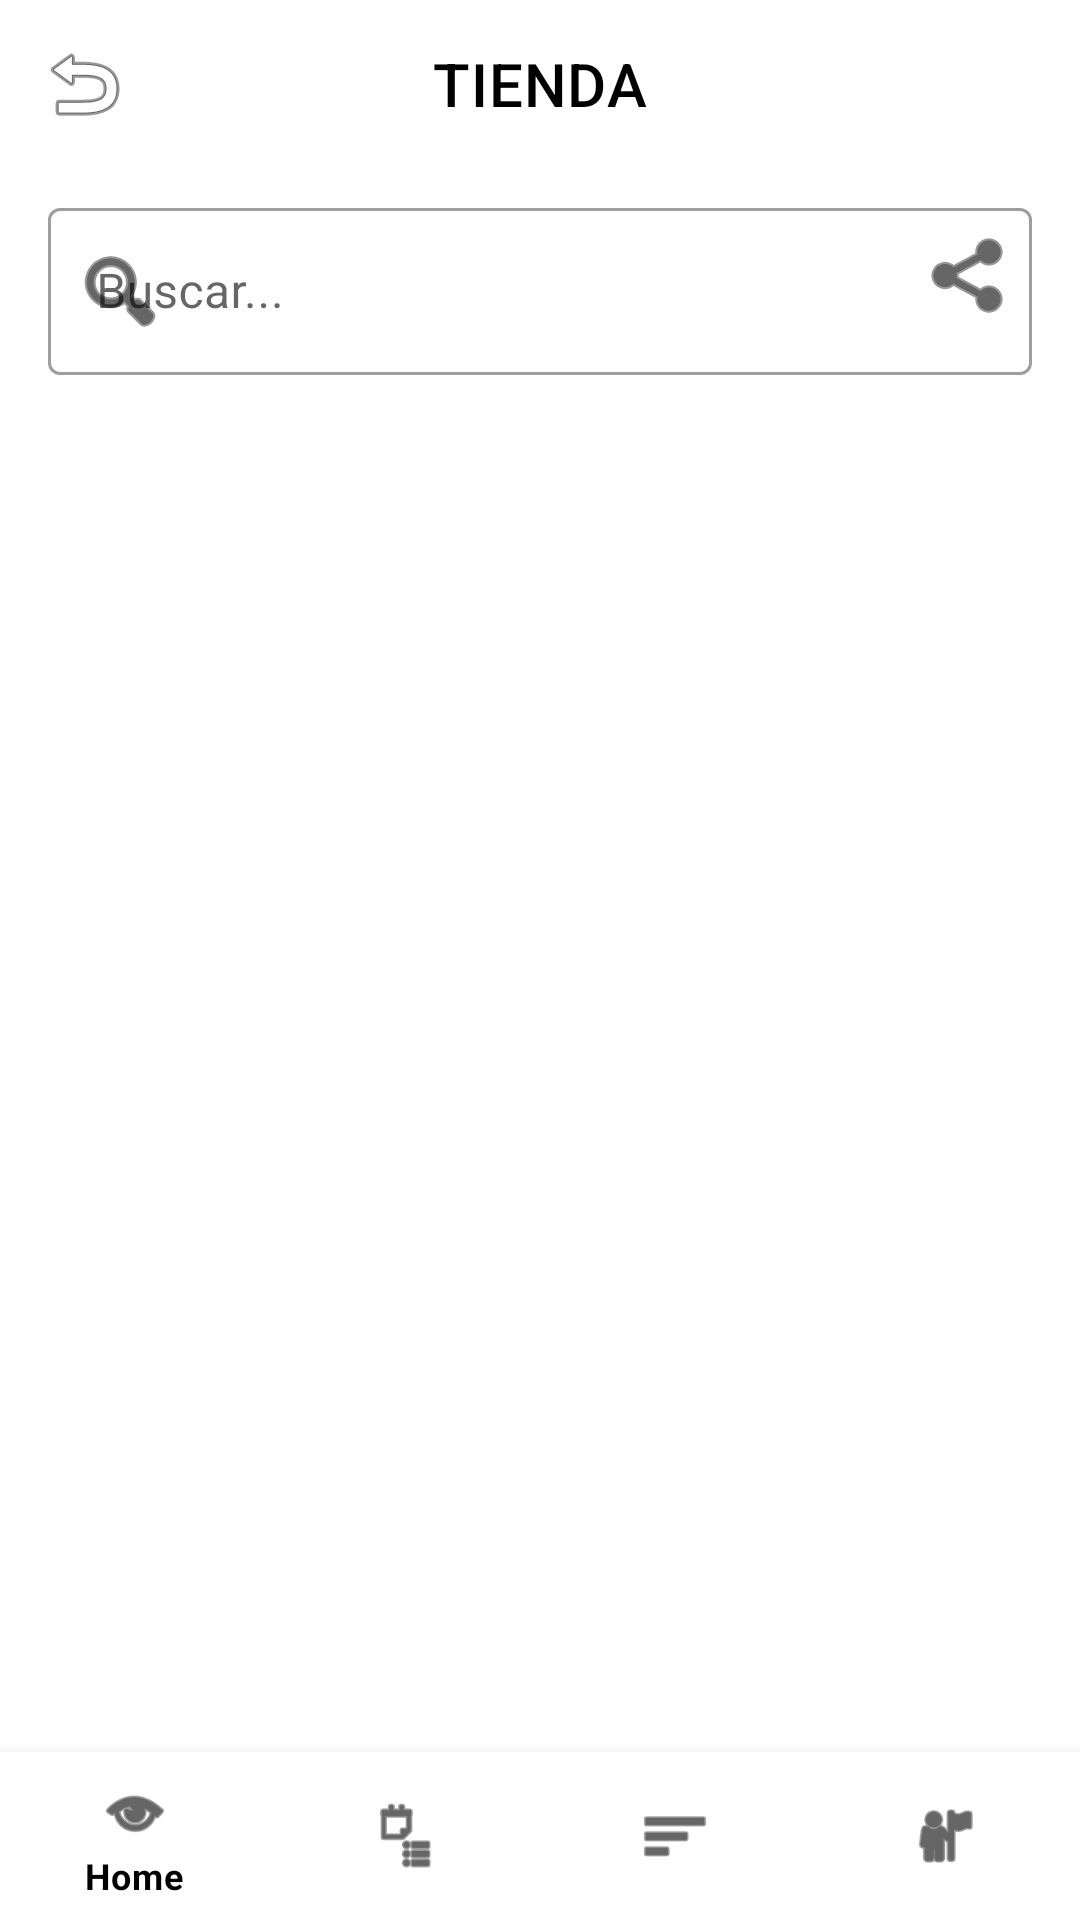

Icons on this 1080w x 1920h Android screen, each with the point to tap as (x,y):
share: (967,275)
